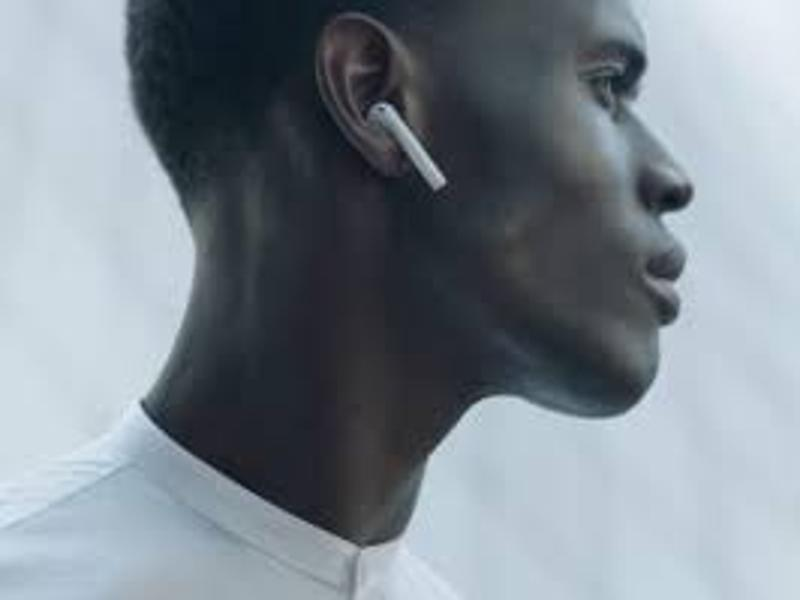headphone: (369, 100, 446, 188)
